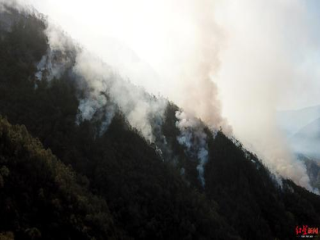smoke: (34, 25, 232, 183)
